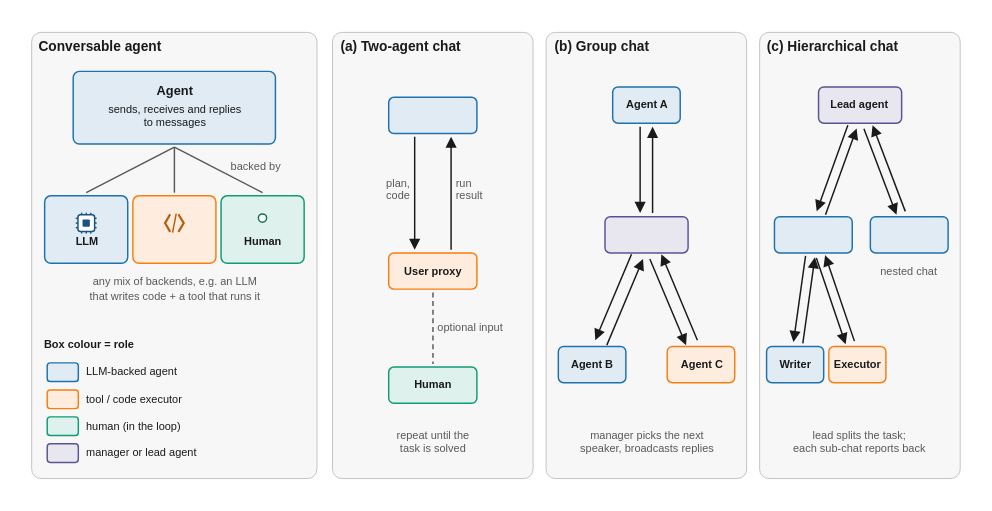
Some shapes in this 992 by 511 pixel diagram are drawn without their labels. Each missing label, with the box of its shape:
Assistant: (387, 96, 477, 133)
Manager: (603, 215, 688, 253)
Sub-agent 1: (773, 215, 852, 253)
Sub-agent 2: (869, 215, 948, 253)
Tools / code: (131, 194, 216, 263)
